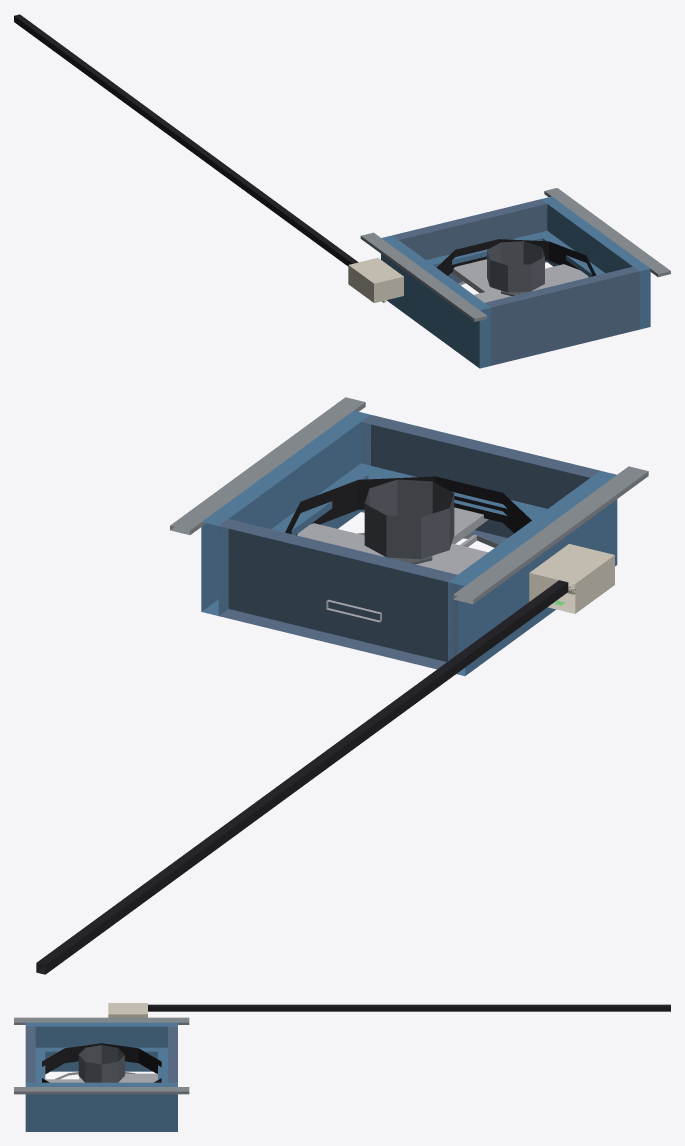
Rendered from c_intake.obj.
3 renders of one model, top to bottom at view 1: azimuth 30°, elevation 25°; view 2: azimuth 150°, elevation 25°; view 3: azimuth 270°, elevation 25°, orthographic. The views are drawn at different scales.
Size of the model in its own units: 0.6345 by 0.15 by 1.99.
1 material, 1 textured.
